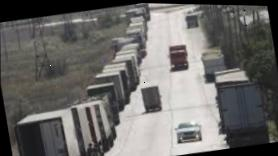car: (172, 117, 203, 144)
person: (85, 140, 101, 156)
truck: (8, 104, 82, 156), (198, 45, 225, 79), (139, 84, 165, 114), (166, 41, 189, 72), (185, 11, 198, 26)
